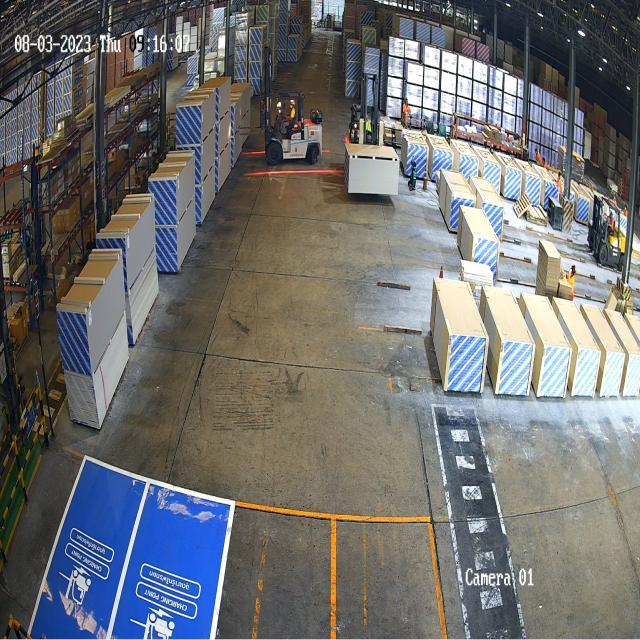driver: (282, 99, 297, 136)
forklift: (256, 75, 324, 170), (590, 192, 626, 270), (344, 99, 381, 147)
person: (566, 263, 576, 298)
